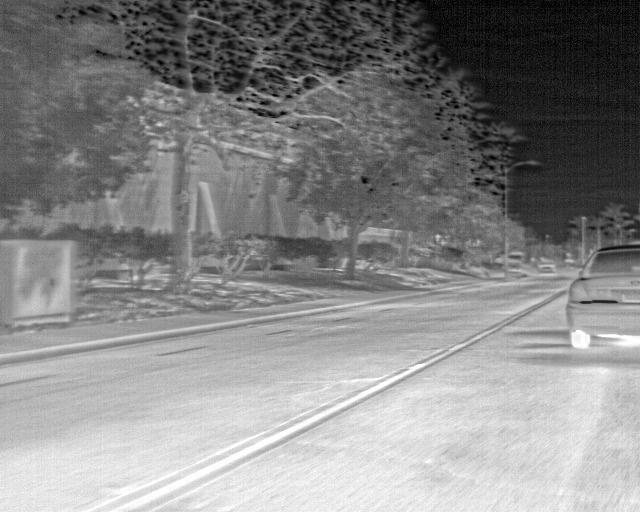car: (565, 244, 639, 350), (537, 259, 557, 274)
